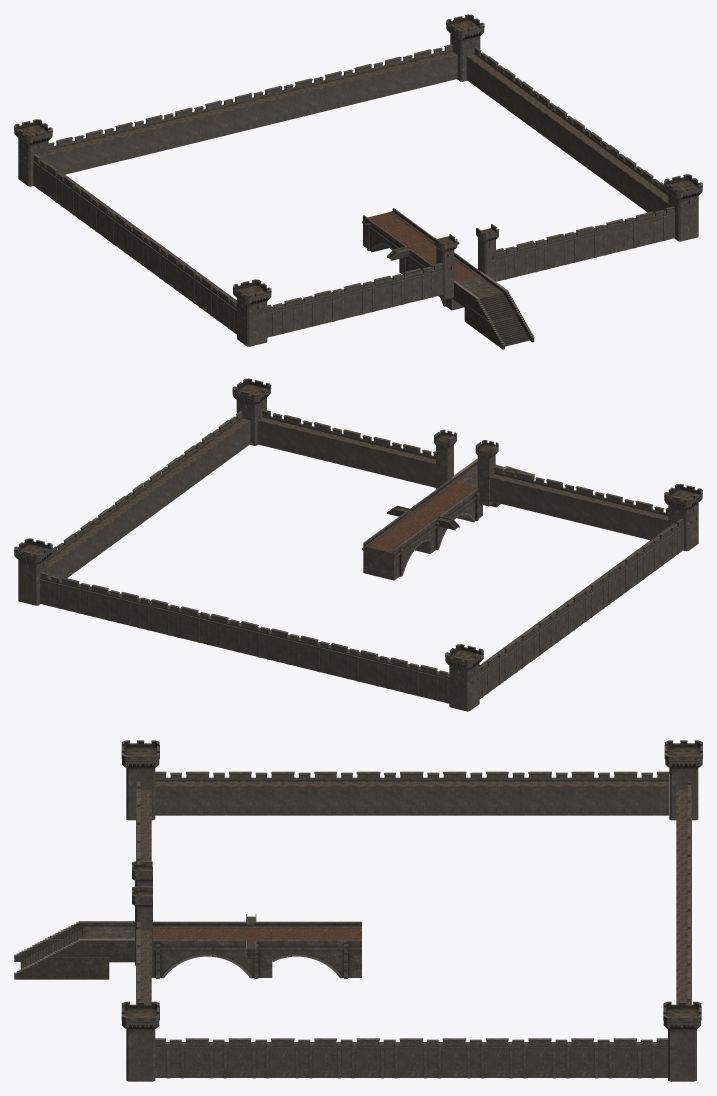
Rendered from castle_wall.fbx.
The picture shows the model from 3 angles, top to bottom: view 1: azimuth 30°, elevation 25°; view 2: azimuth 150°, elevation 25°; view 3: azimuth 270°, elevation 25°; orthographic projection. The views are drawn at different scales.
Parts seen in each view (by area): view 1: castle_element_03.011, castle_element_03.010, castle_element_03.007, castle_element_03.003, castle_element_03.008, castle_element_08.001, castle_element_06.001, castle_element_07.002, castle_element_06.002, castle_element_07.001, castle_element_06.004, castle_element_06.003 (+4 smaller); view 2: castle_element_03.011, castle_element_03.010, castle_element_03.007, castle_element_03.003, castle_element_03.008, castle_element_07.001, castle_element_07.002, castle_element_06.004, castle_element_06.003, castle_element_06.001, castle_element_06.002, castle_element_02.001 (+4 smaller); view 3: castle_element_03.007, castle_element_03.010, castle_element_08.001, castle_element_07.001, castle_element_07.002, castle_element_03.011, castle_element_06.002, castle_element_06.003, castle_element_06.001, castle_element_06.004, castle_element_03.003, castle_element_03.008 (+2 smaller).
Part boxes in pixels (x1,y1,x2,y2): castle_element_03.011: (94, 44, 457, 166); castle_element_03.010: (466, 47, 676, 213); castle_element_03.007: (33, 154, 244, 334); castle_element_03.003: (496, 206, 674, 281); castle_element_03.008: (267, 263, 443, 337); castle_element_08.001: (452, 272, 534, 349); castle_element_06.001: (232, 279, 271, 346); castle_element_07.002: (362, 208, 429, 252); castle_element_06.002: (664, 174, 702, 241); castle_element_07.001: (398, 234, 481, 310); castle_element_06.004: (14, 119, 52, 186); castle_element_06.003: (446, 14, 484, 81); castle_element_03.011: (39, 572, 399, 690); castle_element_03.010: (48, 411, 250, 579); castle_element_03.007: (479, 518, 683, 698); castle_element_03.003: (257, 409, 435, 487); castle_element_03.008: (490, 466, 668, 540); castle_element_07.001: (400, 478, 482, 553); castle_element_07.002: (362, 516, 431, 580); castle_element_06.004: (445, 644, 483, 711); castle_element_06.003: (14, 538, 52, 605); castle_element_06.001: (664, 483, 702, 551); castle_element_06.002: (232, 378, 271, 445); castle_element_02.001: (475, 440, 498, 506); castle_element_03.007: (155, 771, 669, 815); castle_element_03.010: (155, 1038, 667, 1078); castle_element_08.001: (14, 921, 134, 979); castle_element_07.001: (151, 921, 272, 978); castle_element_07.002: (272, 921, 361, 978); castle_element_03.011: (676, 813, 691, 1049); castle_element_06.002: (121, 1001, 159, 1081); castle_element_06.003: (663, 1001, 701, 1081); castle_element_06.001: (121, 740, 159, 820); castle_element_06.004: (664, 740, 702, 820); castle_element_03.003: (136, 922, 151, 1049); castle_element_03.008: (136, 781, 151, 863).
Bounding box in the file's own units: 28111 × 4338 × 29513.
